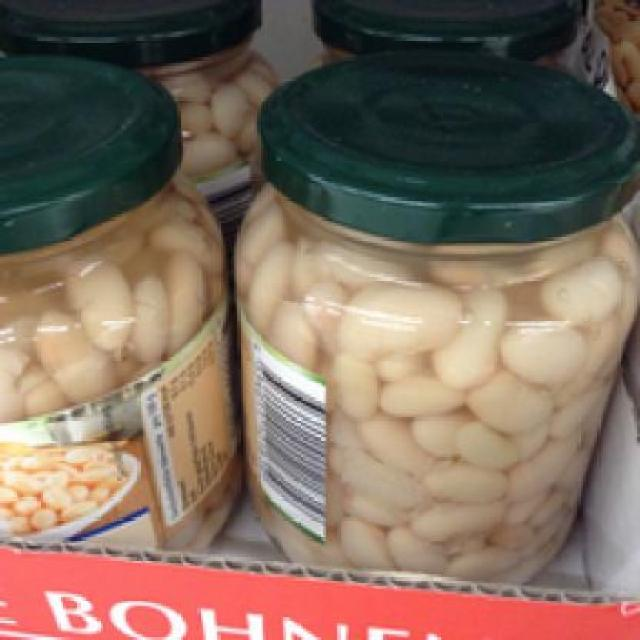Beans: (246, 51, 628, 586), (0, 51, 220, 552)
